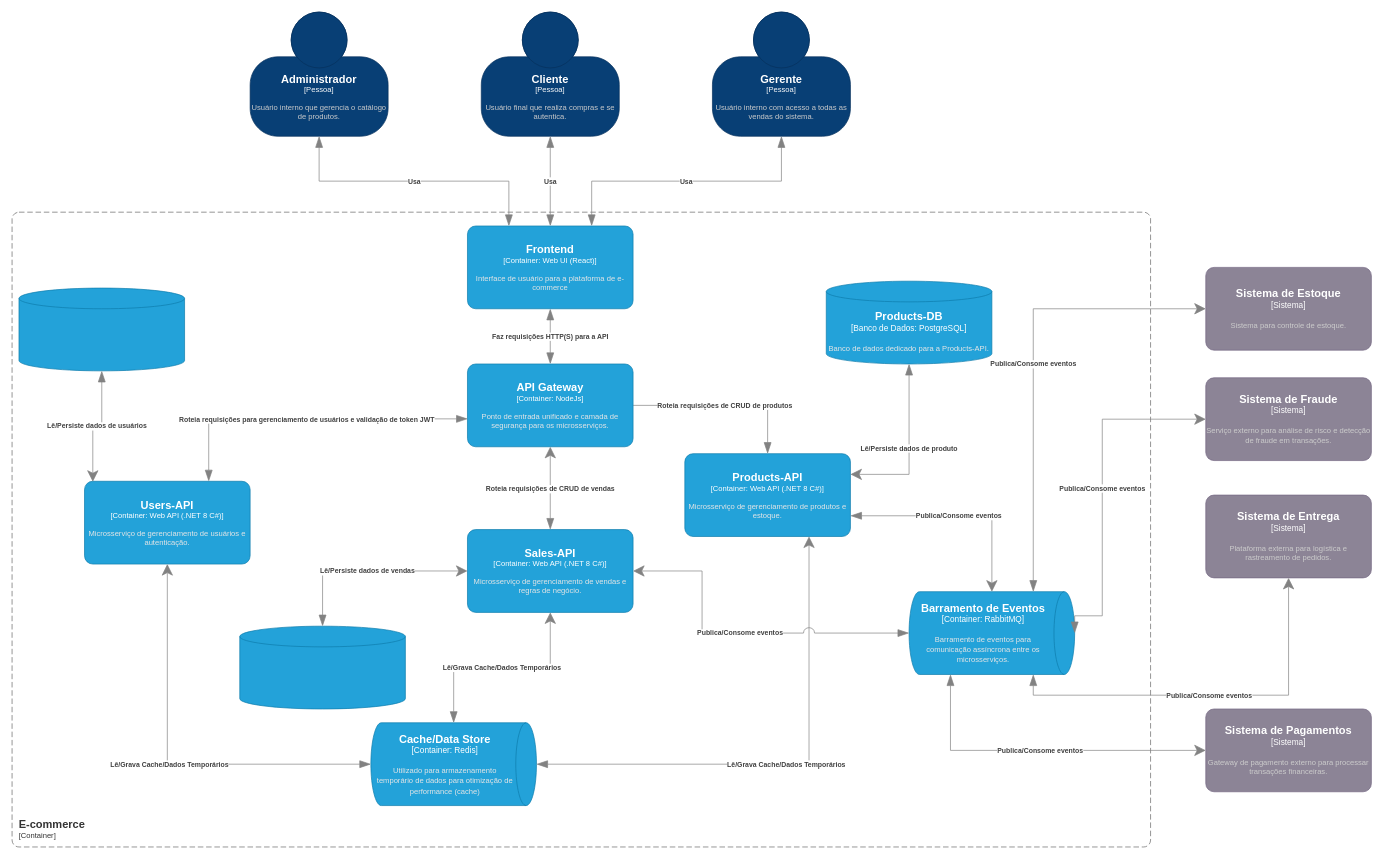
Image size: 1383x859. Some labels were removed from this diagram. Here are the shapes that lost their labels. From the top down, the box of each, then its label:
(18, 287, 185, 371): Users-DB [Banco de Dados: PostgreSQL] Banco de dados dedicado para a Users-API.
(239, 625, 405, 709): Sales-DB [Banco de Dados: PostgreSQL] Banco de dados dedicado para a Sales-API.
